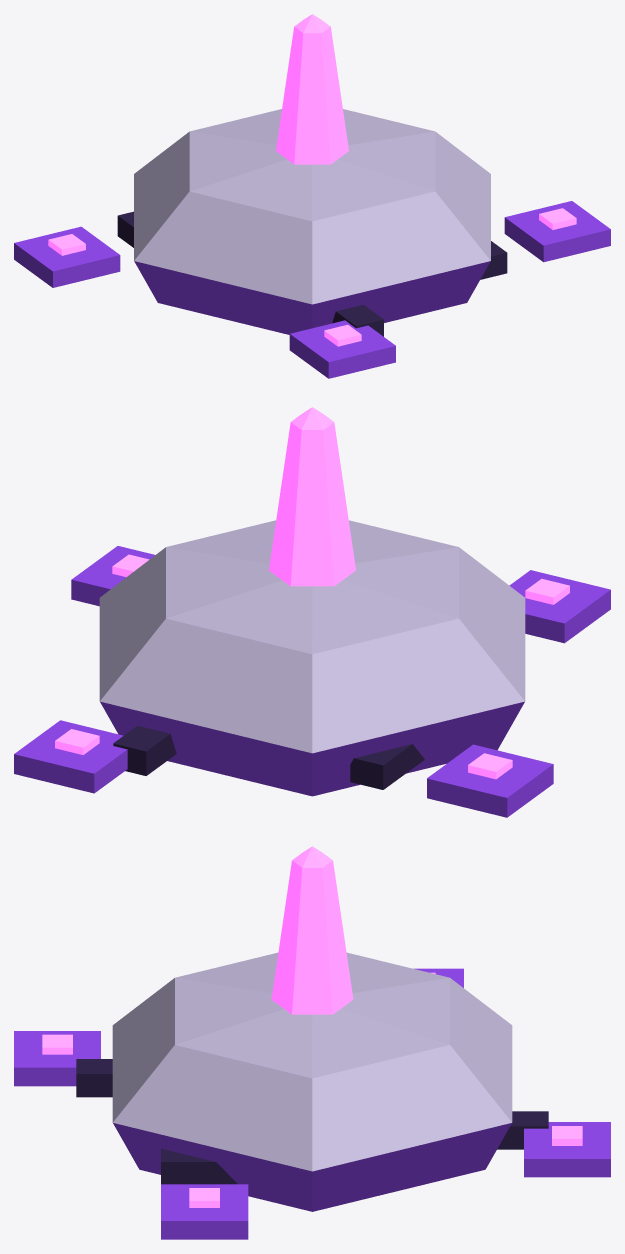
File: rts.outpost.glb
3 views of the same model, one above another, from view 1: azimuth 30°, elevation 25°; view 2: azimuth 150°, elevation 25°; view 3: azimuth 270°, elevation 25° (orthographic). The views are drawn at different scales.
Parts seen in each view (by area): view 1: rts.outpost; view 2: rts.outpost; view 3: rts.outpost.
Part boxes in pixels (x1,y1,x2,y2): rts.outpost: (14,14,610,378); rts.outpost: (14,407,610,817); rts.outpost: (14,846,610,1239).
Bounding box in the file's own units: 2.33 × 1.26 × 2.33.
